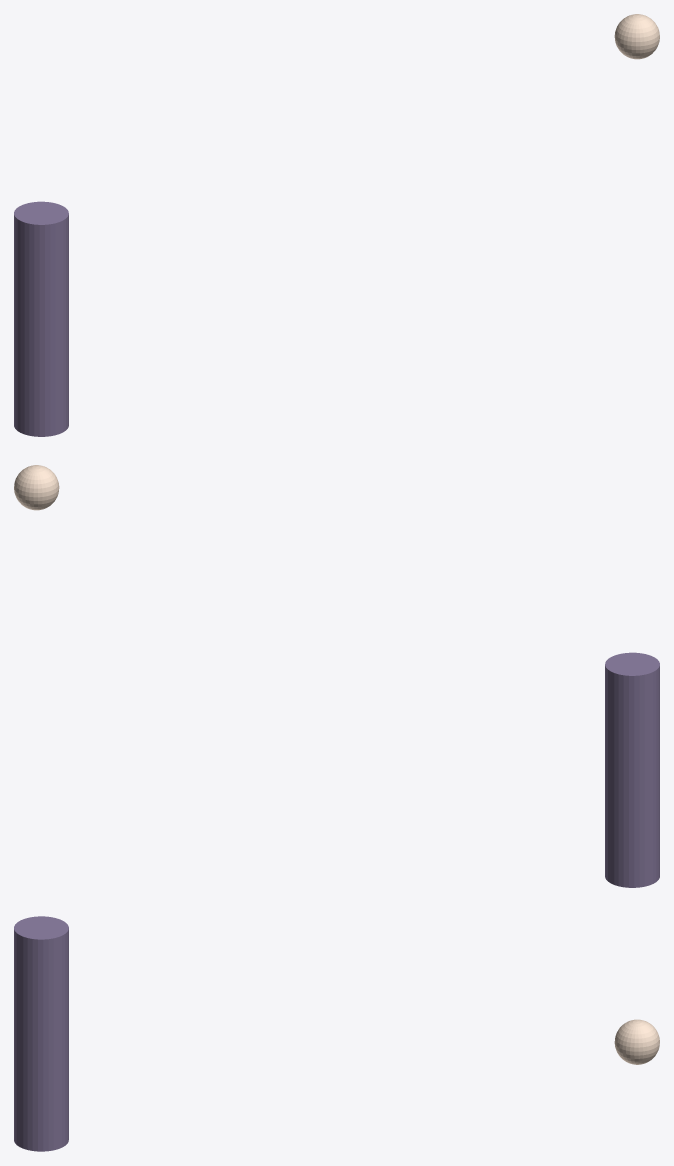
Rendered from CH_Companion2.glb.
The picture shows the model from 3 angles, top to bottom: view 1: azimuth 30°, elevation 25°; view 2: azimuth 150°, elevation 25°; view 3: azimuth 330°, elevation 25°; orthographic projection.
Visible parts, largest first — view 1: CH_Companion2_Body, CH_Companion2_Head; view 2: CH_Companion2_Body, CH_Companion2_Head; view 3: CH_Companion2_Body, CH_Companion2_Head.
Boxes of the visible parts, box(x1,y1,x2,y2) form: CH_Companion2_Body: box(14, 201, 68, 436); CH_Companion2_Head: box(614, 14, 659, 59); CH_Companion2_Body: box(605, 652, 659, 887); CH_Companion2_Head: box(14, 465, 59, 510); CH_Companion2_Body: box(14, 916, 68, 1151); CH_Companion2_Head: box(614, 1019, 659, 1064).
Bounding box in the file's own units: 10.73 × 4.23 × 0.8.
